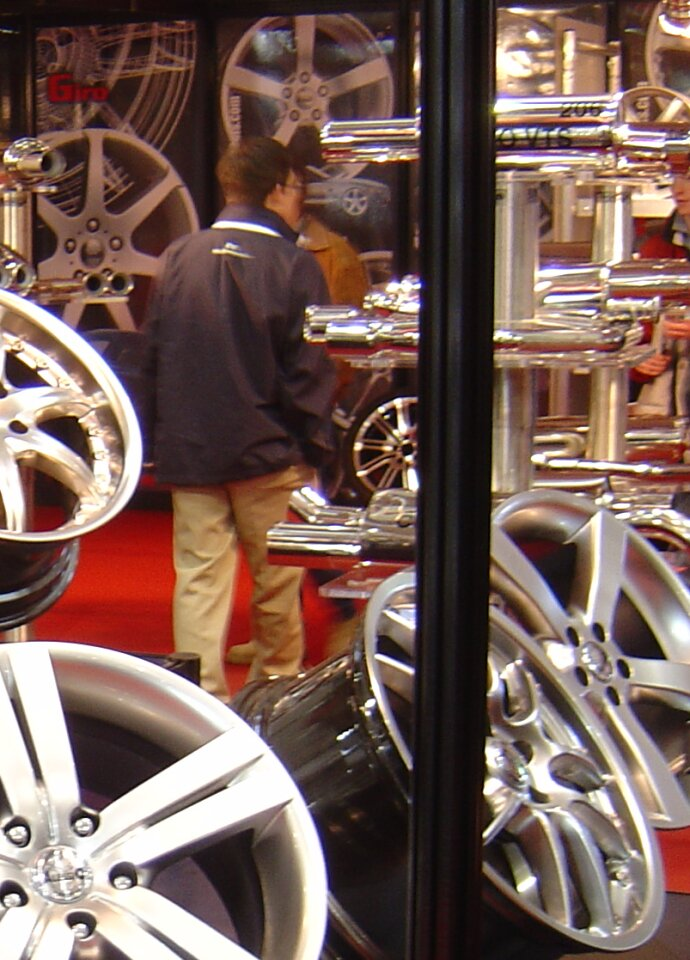person: (151, 138, 339, 695)
